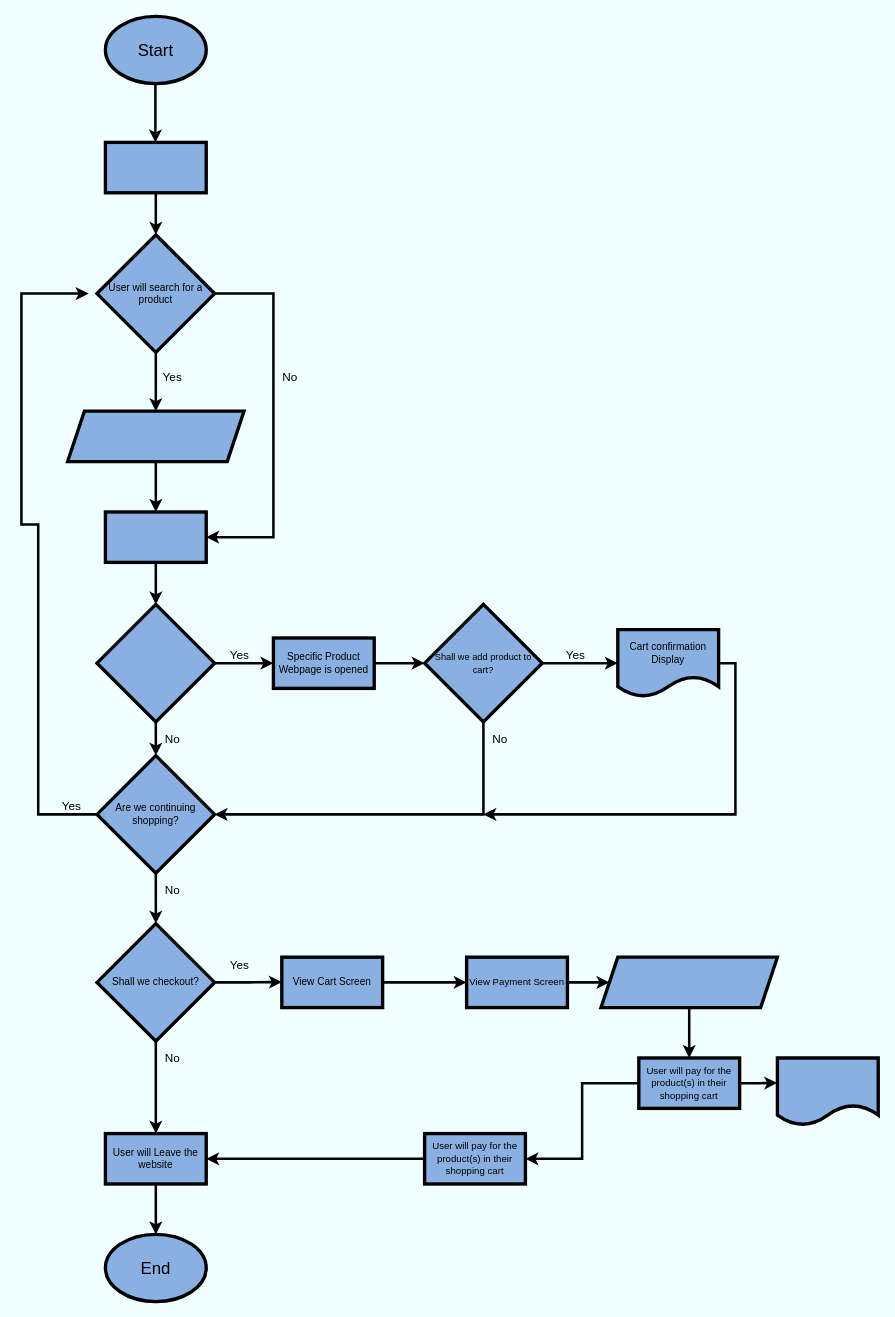
Image size: 895x1317. Some labels were removed from this diagram. Each missing label, with the centre of its shape:
Email is sent to user with receipt: [827,1091]
User enters payment information: [689,982]
User enters product for search: [155,436]
User Enters the Website: [155,167]
User looks over the products: [155,537]
User views a specific product: [155,662]
